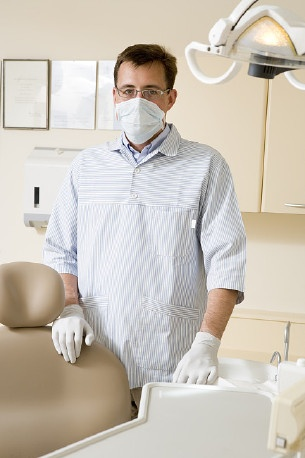Mask: (115, 82, 169, 136)
